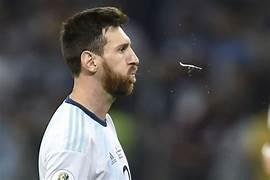Spitting: (46, 9, 203, 104)
